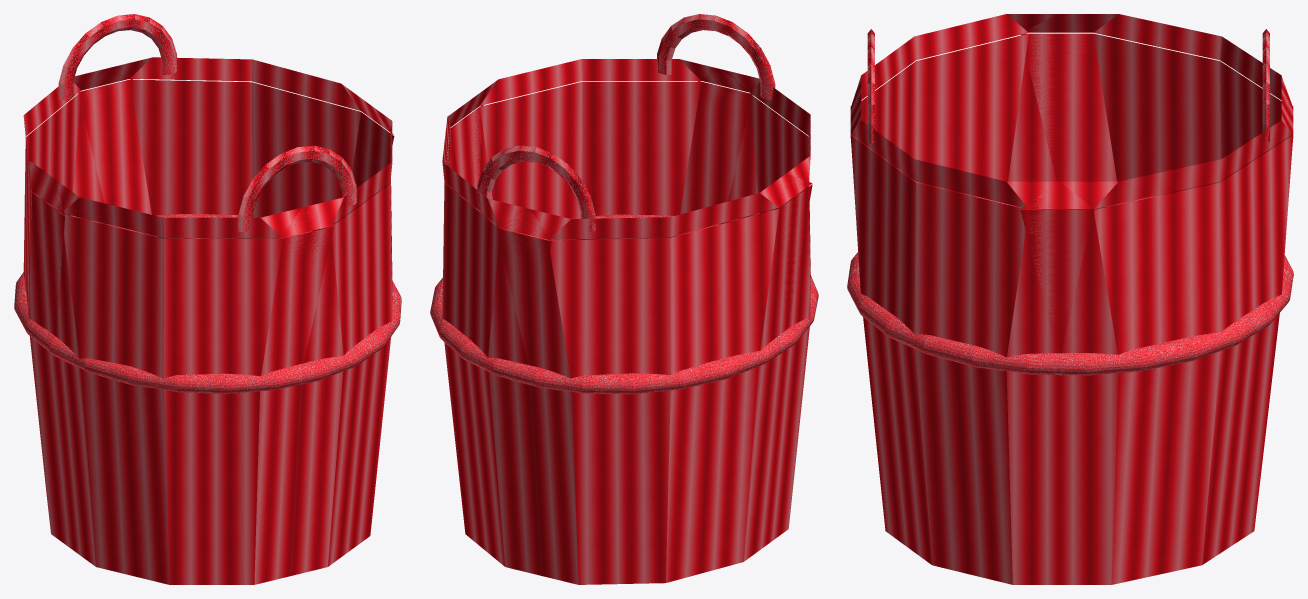
The picture shows the model from 3 angles, left to right: view 1: azimuth 30°, elevation 25°; view 2: azimuth 150°, elevation 25°; view 3: azimuth 270°, elevation 25°; orthographic projection. The views are drawn at different scales.
Visible parts, largest first — view 1: mesh1.003_mesh1-geometry, mesh1.004_mesh1-geometry, mesh3.004_mesh3-geometry, mesh3.003_mesh3-geometry, mesh7.001_mesh7-geometry, mesh2.004_mesh2-geometry, mesh2.003_mesh2-geometry, mesh9.002_mesh9-geometry, mesh9.001_mesh9-geometry, mesh4.003_mesh4-geometry, mesh4.004_mesh4-geometry; view 2: mesh3.003_mesh3-geometry, mesh3.004_mesh3-geometry, mesh1.004_mesh1-geometry, mesh1.003_mesh1-geometry, mesh7.001_mesh7-geometry, mesh4.003_mesh4-geometry, mesh4.004_mesh4-geometry, mesh9.001_mesh9-geometry, mesh9.002_mesh9-geometry, mesh2.004_mesh2-geometry, mesh2.003_mesh2-geometry; view 3: mesh1.004_mesh1-geometry, mesh3.004_mesh3-geometry, mesh3.003_mesh3-geometry, mesh1.003_mesh1-geometry, mesh7.001_mesh7-geometry, mesh4.003_mesh4-geometry, mesh4.004_mesh4-geometry, mesh2.004_mesh2-geometry, mesh2.003_mesh2-geometry, mesh9.001_mesh9-geometry, mesh9.002_mesh9-geometry.
Boxes of the visible parts, x1,y1,x2,y2 form: mesh1.003_mesh1-geometry: (32,193,334,584); mesh1.004_mesh1-geometry: (78,79,394,238); mesh3.004_mesh3-geometry: (279,113,392,575); mesh3.003_mesh3-geometry: (23,79,132,550); mesh7.001_mesh7-geometry: (14,214,401,393); mesh2.004_mesh2-geometry: (80,57,393,134); mesh2.003_mesh2-geometry: (35,180,333,237); mesh9.002_mesh9-geometry: (58,14,176,100); mesh9.001_mesh9-geometry: (238,145,356,231); mesh4.003_mesh4-geometry: (23,67,130,215); mesh4.004_mesh4-geometry: (280,104,392,238); mesh3.003_mesh3-geometry: (497,184,812,584); mesh3.004_mesh3-geometry: (450,81,752,239); mesh1.004_mesh1-geometry: (442,105,551,575); mesh1.003_mesh1-geometry: (698,81,810,543); mesh7.001_mesh7-geometry: (430,214,818,394); mesh4.003_mesh4-geometry: (497,173,812,239); mesh4.004_mesh4-geometry: (451,59,750,126); mesh9.001_mesh9-geometry: (657,14,775,100); mesh9.002_mesh9-geometry: (477,145,595,231); mesh2.004_mesh2-geometry: (442,97,551,240); mesh2.003_mesh2-geometry: (700,69,810,207); mesh1.004_mesh1-geometry: (1020,134,1293,584); mesh3.004_mesh3-geometry: (850,134,1094,584); mesh3.003_mesh3-geometry: (1021,33,1293,194); mesh1.003_mesh1-geometry: (850,33,1093,195); mesh7.001_mesh7-geometry: (847,194,1293,375); mesh4.003_mesh4-geometry: (1026,14,1293,134); mesh4.004_mesh4-geometry: (850,98,1093,209); mesh2.004_mesh2-geometry: (1021,98,1293,209); mesh2.003_mesh2-geometry: (850,14,1090,134); mesh9.001_mesh9-geometry: (867,29,874,143); mesh9.002_mesh9-geometry: (1262,29,1269,143).
Bounding box in the file's own units: 0.5202 × 0.6507 × 0.5532.
